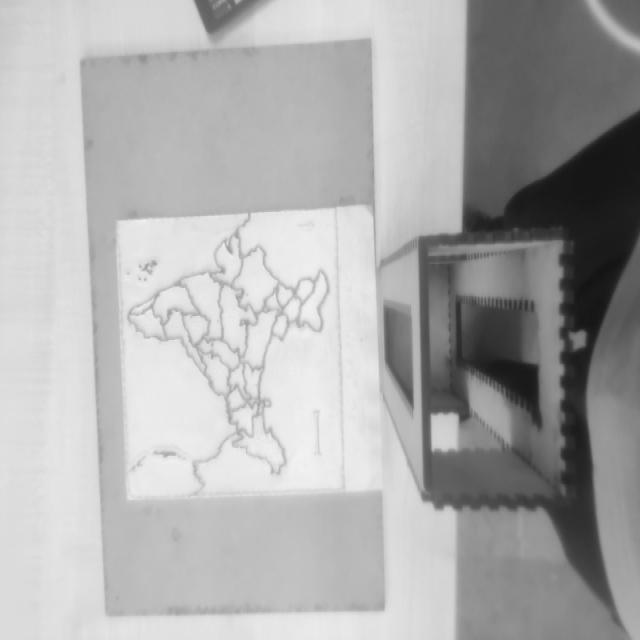map: (117, 208, 347, 499)
